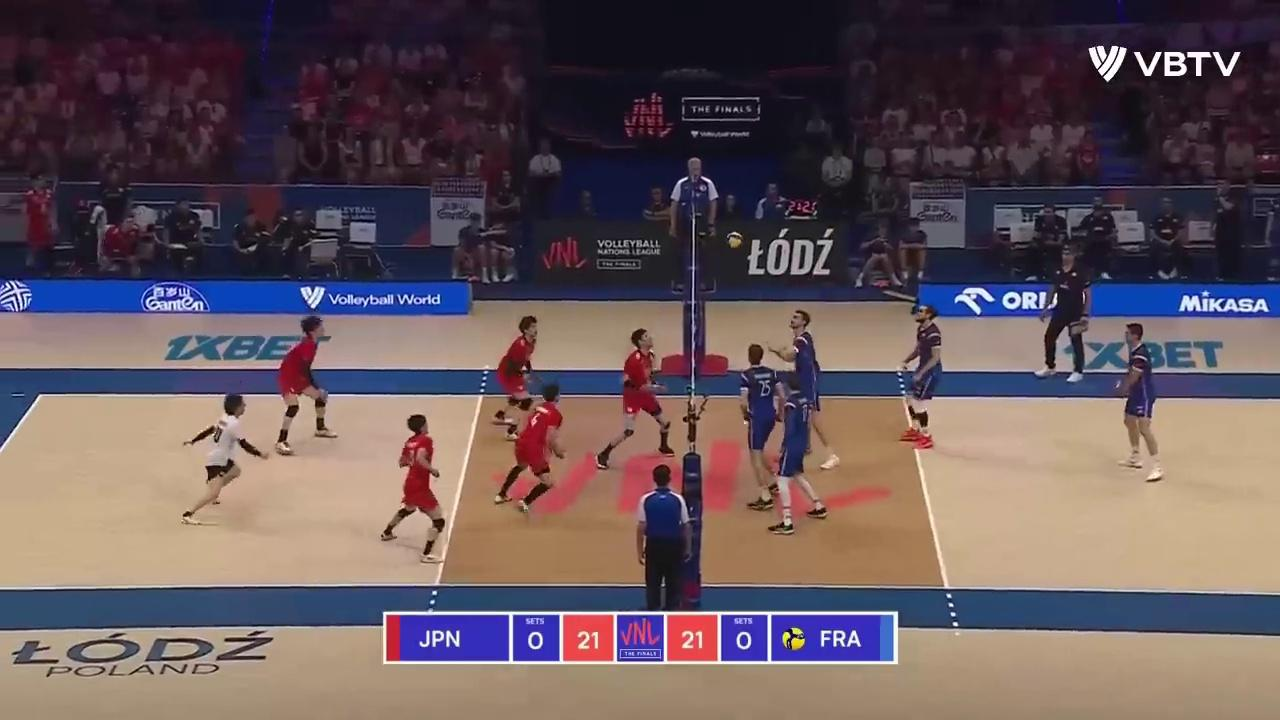ball: (727, 232, 744, 249)
